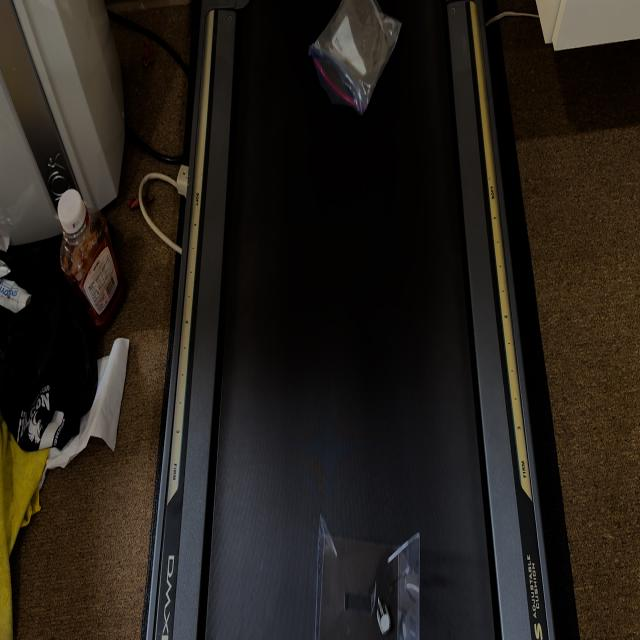Trash: (312, 509, 423, 638), (307, 0, 402, 114)
